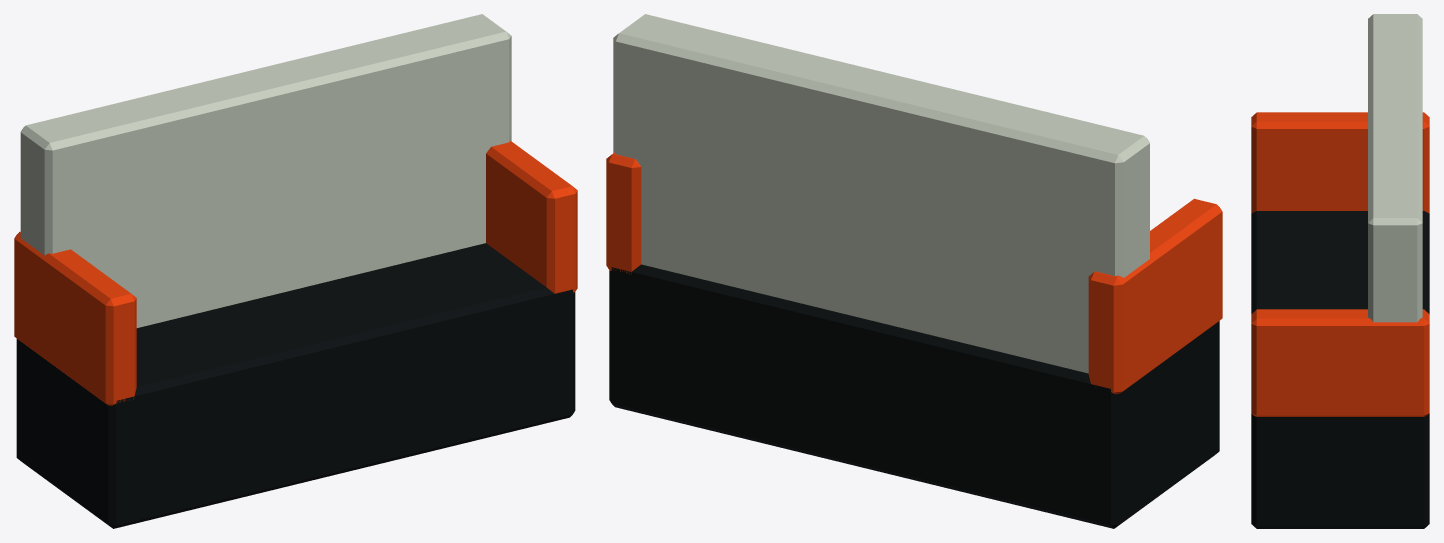
File: SM_MP_Bench.fbx
3 renders of one model, left to right at view 1: azimuth 30°, elevation 25°; view 2: azimuth 150°, elevation 25°; view 3: azimuth 270°, elevation 25°, orthographic. The views are drawn at different scales.
Visible parts, largest first — view 1: SM_MP_Bench; view 2: SM_MP_Bench; view 3: SM_MP_Bench.
Boxes of the visible parts, left/top/right/bottom form: SM_MP_Bench: left=14, top=14, right=577, bottom=528; SM_MP_Bench: left=606, top=14, right=1222, bottom=528; SM_MP_Bench: left=1251, top=14, right=1429, bottom=528.
Size of the model in its own units: 182 by 65 by 125.
Materials: 1 (1 with a texture image).
